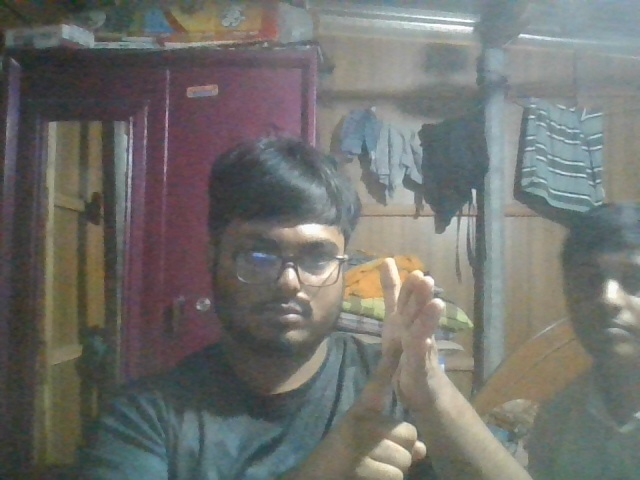r: (311, 262, 500, 480)
